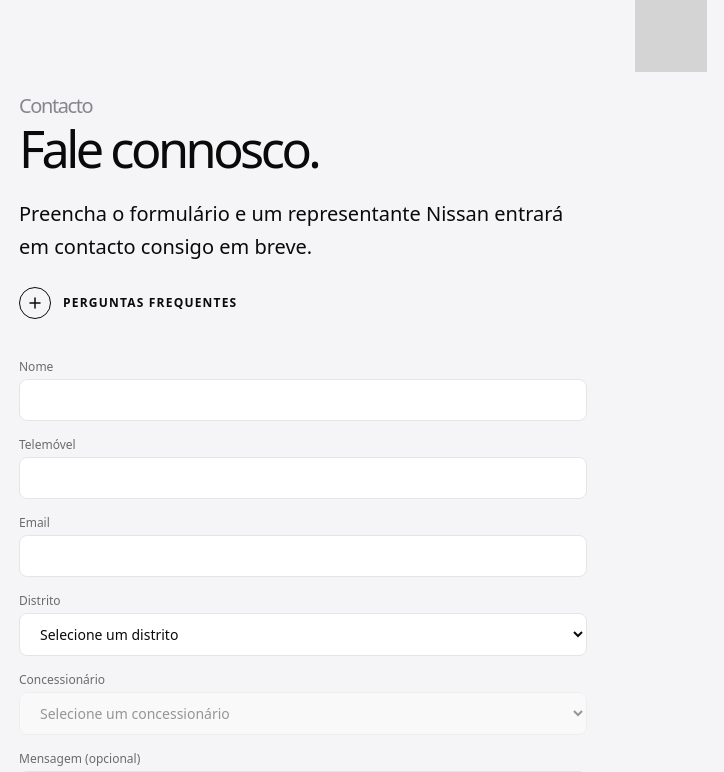
Test: InfoFormSection › shows error message when submission fails
This screenshot has width=724, height=772.
Type "João Silva" into the field labelled "Nome" at coordinates (303, 400), box [19,379,587,421]
Type "+351912345678" into the field labelled "Telemóvel" at coordinates (303, 478), box [19,457,587,499]
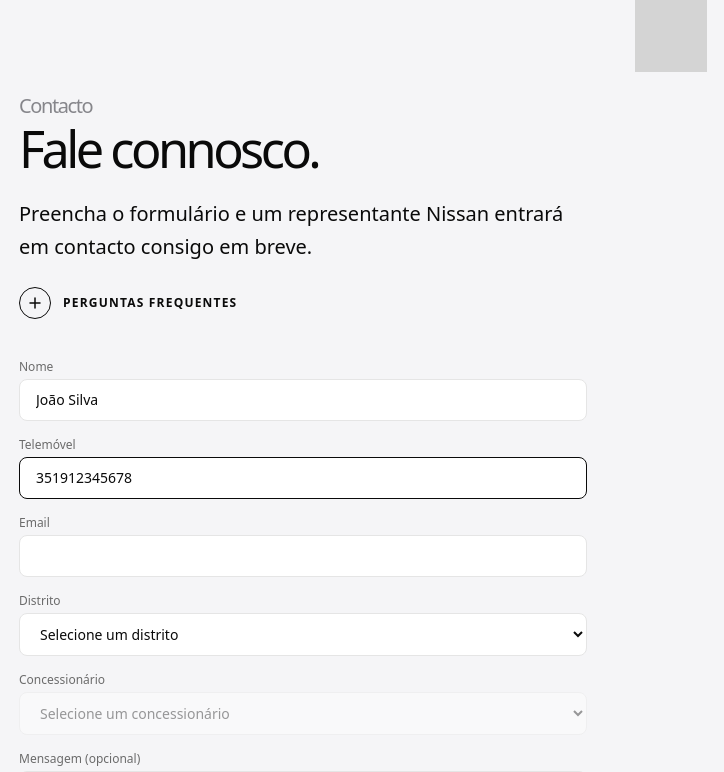
Type "joao@example.com" into the field labelled "Email" at coordinates (303, 556), box [19,535,587,577]
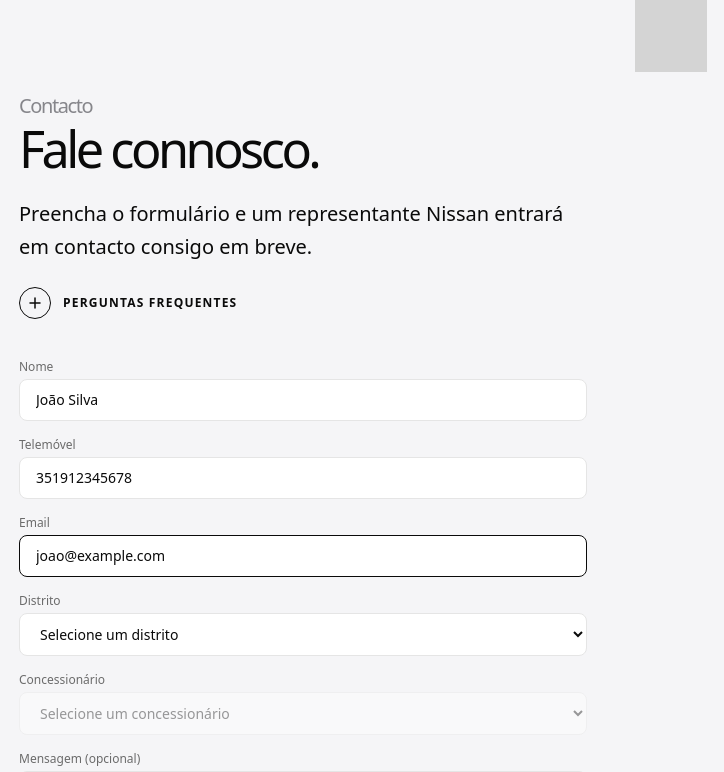
Select "LISBOA" in the dropdown labelled "Distrito" at coordinates (303, 635), box [19,613,587,656]
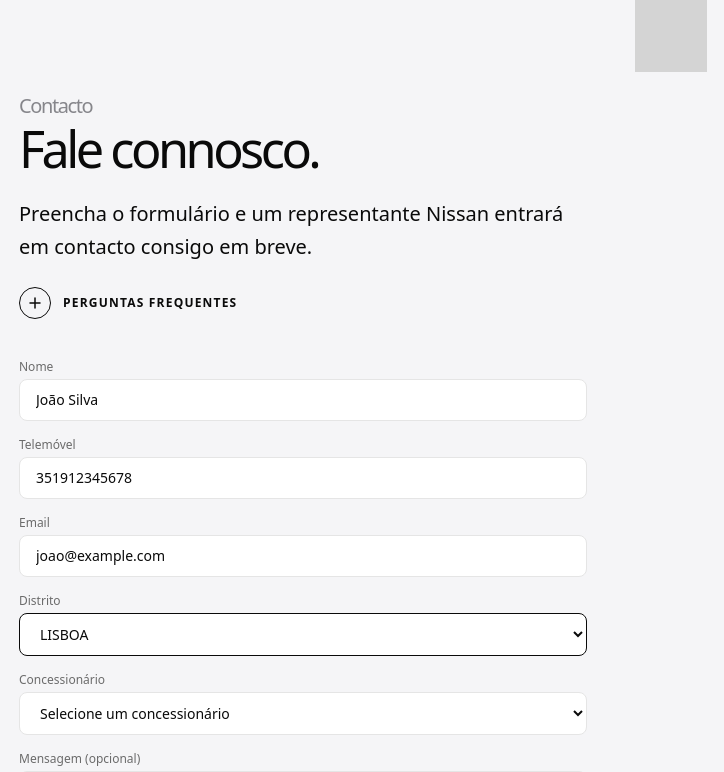
Select "Dealer A - Rua X" in the dropdown labelled "Concessionário" at coordinates (303, 714), box [19,692,587,735]
(page scrolled)
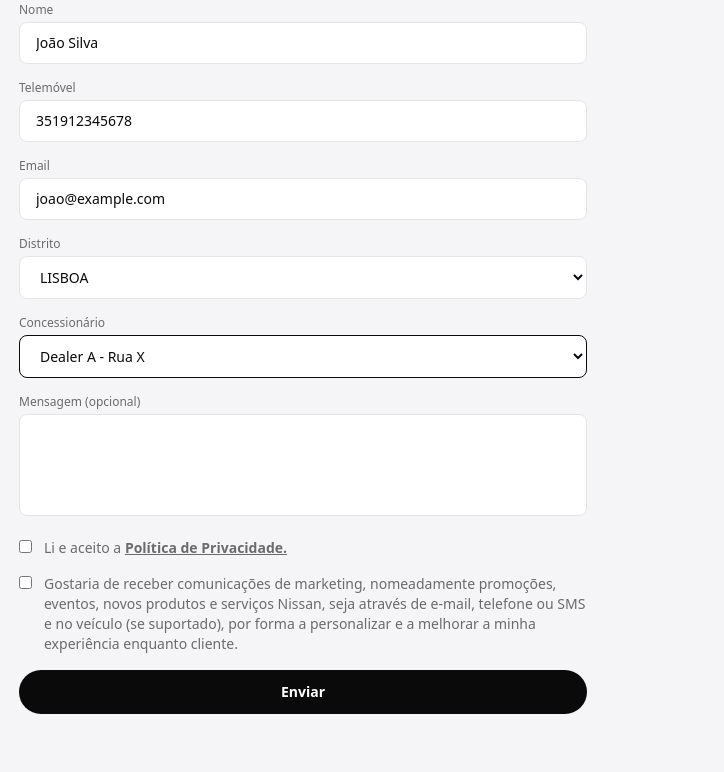
Click the checkbox labelled "Li e aceito a Política de Privacidade." at coordinates (26, 547), box [19,540,32,553]
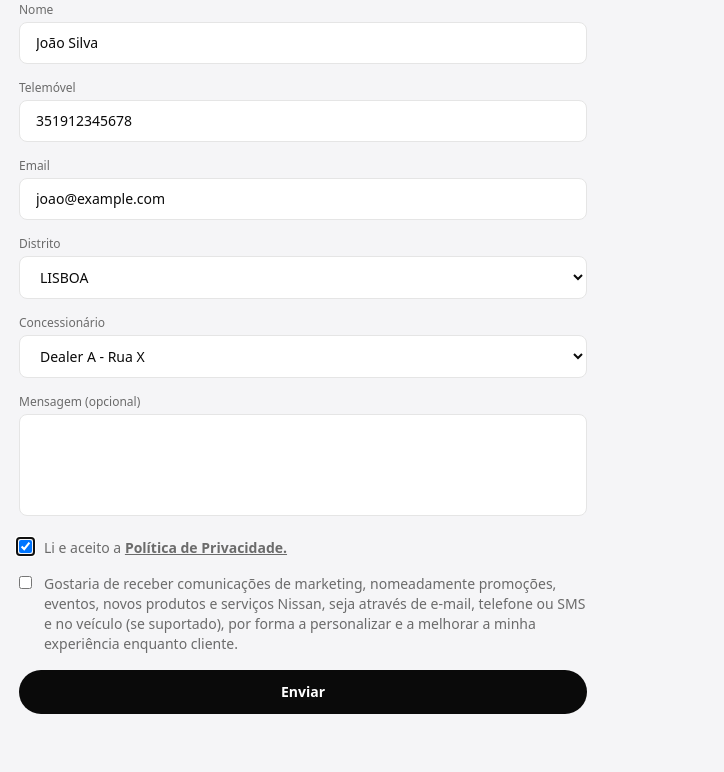
Click the button "Enviar" at coordinates (303, 692), box [19,670,587,714]
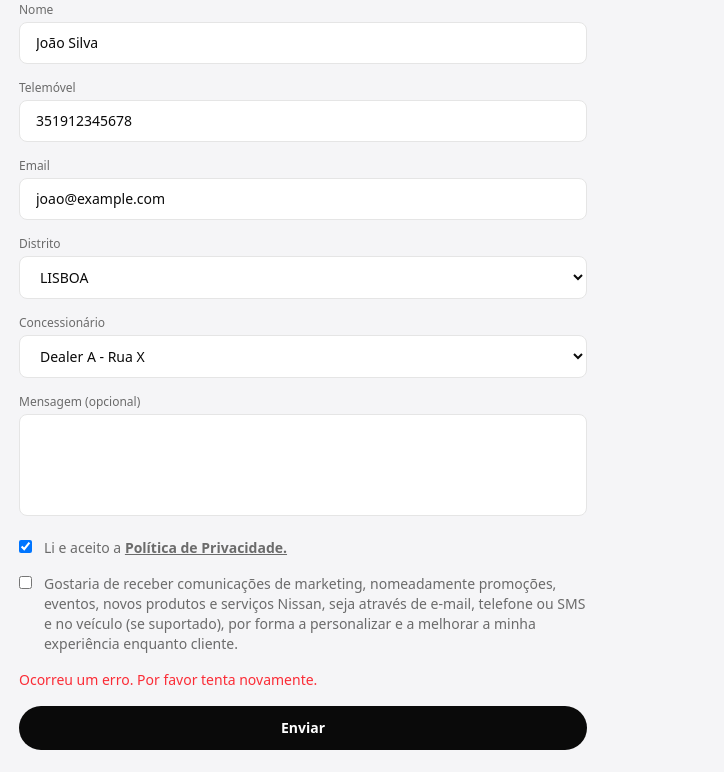
Check: the text "Ocorreu um erro. Por favor tenta novamente." is shown, box [19,670,317,689]
